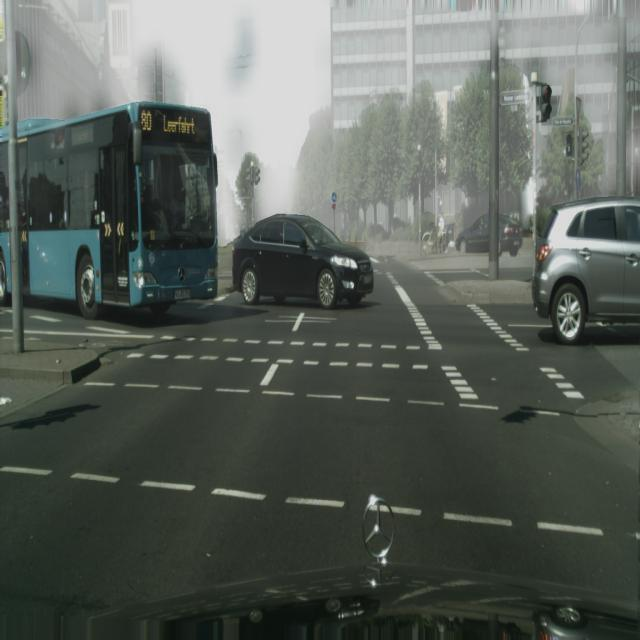car: (421, 222, 451, 260)
motorcycle: (0, 101, 219, 321)
person: (437, 211, 446, 252)
truck: (532, 198, 640, 346), (231, 214, 374, 310), (453, 212, 522, 258)
